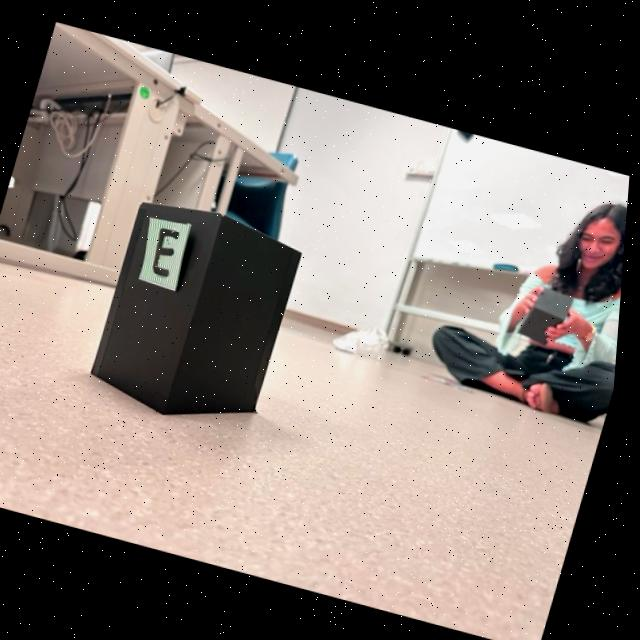E: (154, 228, 183, 275)
